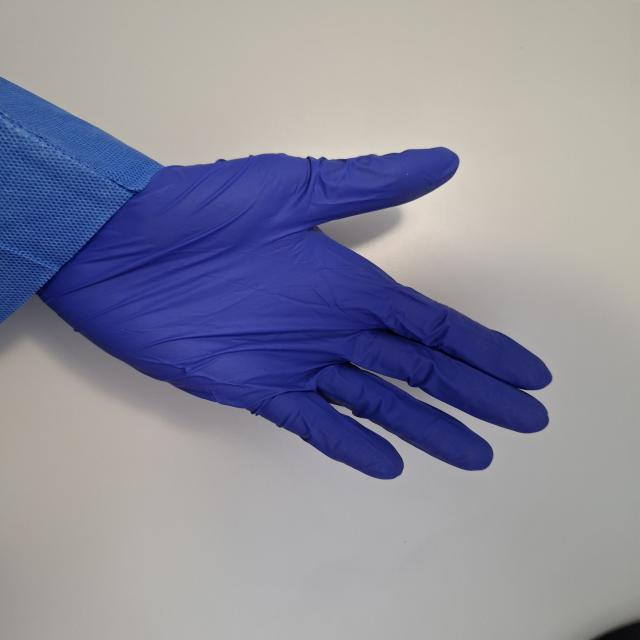glove_on: (31, 142, 560, 480)
